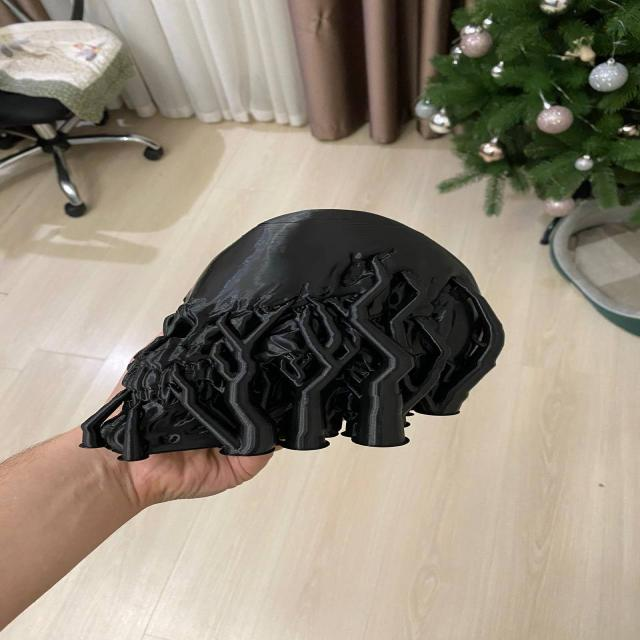Without deffect: (63, 187, 508, 469)
